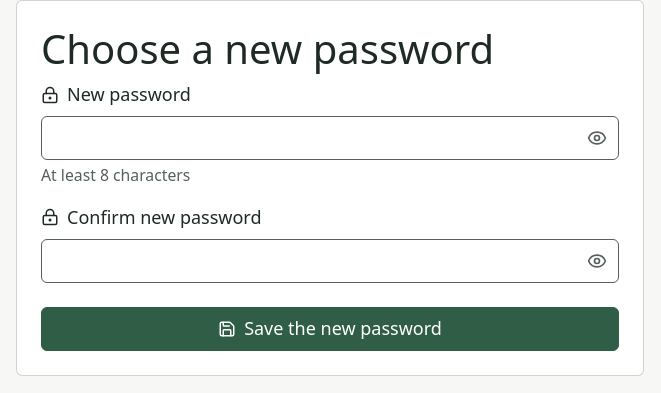
Test: ResetPasswordPage › server answers › 400 bad or expired link: its message and a way to ask for a new link, no form
Type "my-own-secret-pw" into the password field labelled "New password" at {"x": 330, "y": 138}, box [41, 116, 619, 160]
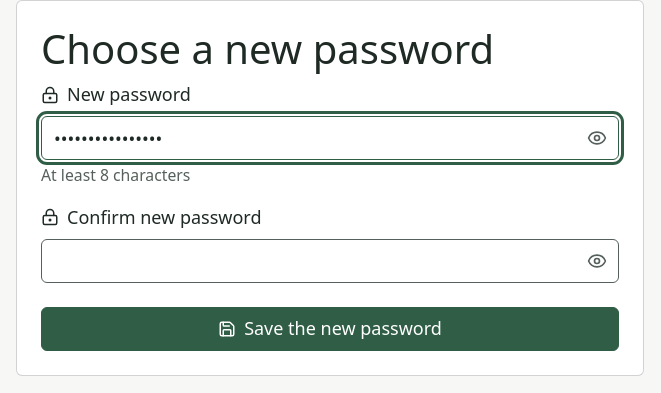
Type "my-own-secret-pw" into the password field labelled "Confirm new password" at {"x": 330, "y": 261}, box [41, 239, 619, 283]
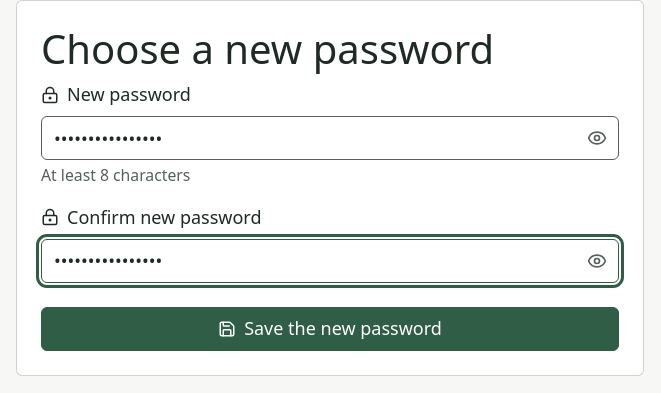
Click the button "Save the new password" at {"x": 330, "y": 329}, box [41, 307, 619, 351]
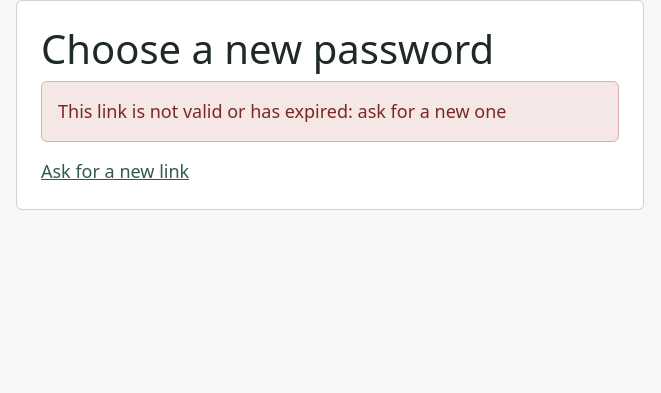
Expected: the message reads "This link is not valid or has expired: ask for a new one", [58, 99, 506, 123]
Expected: the label labelled "Confirm new password" is gone
Expected: the button "Save" is gone
